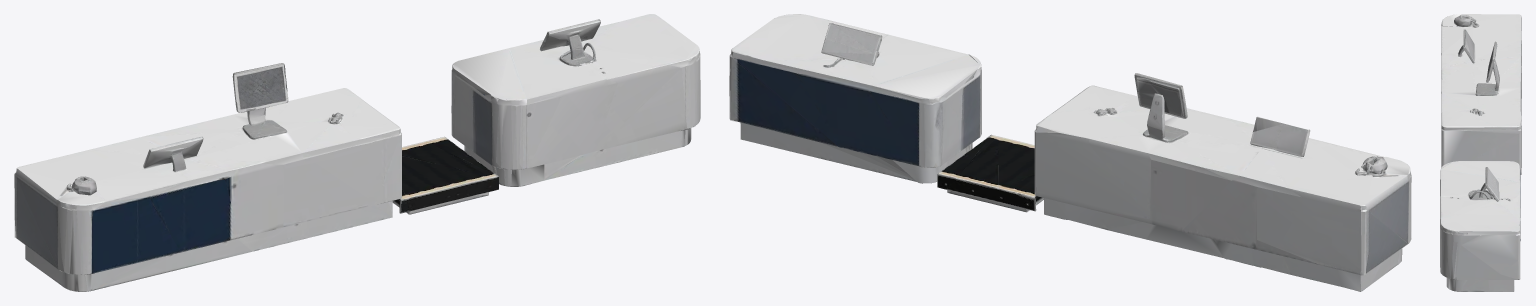
Rendered from checkin-counter-v1.glb.
The picture shows the model from 3 angles, left to right: view 1: azimuth 30°, elevation 25°; view 2: azimuth 150°, elevation 25°; view 3: azimuth 270°, elevation 25°; orthographic projection. The views are drawn at different scales.
Size of the model in its own units: 4.8 by 1.07 by 0.7612.
1 material, 1 textured.
